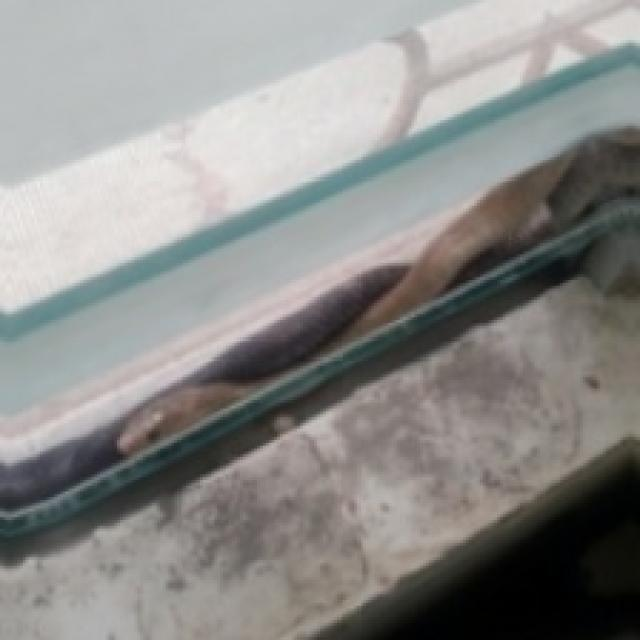reddish rat snake: (0, 266, 408, 508), (326, 126, 637, 349), (349, 129, 637, 334)
